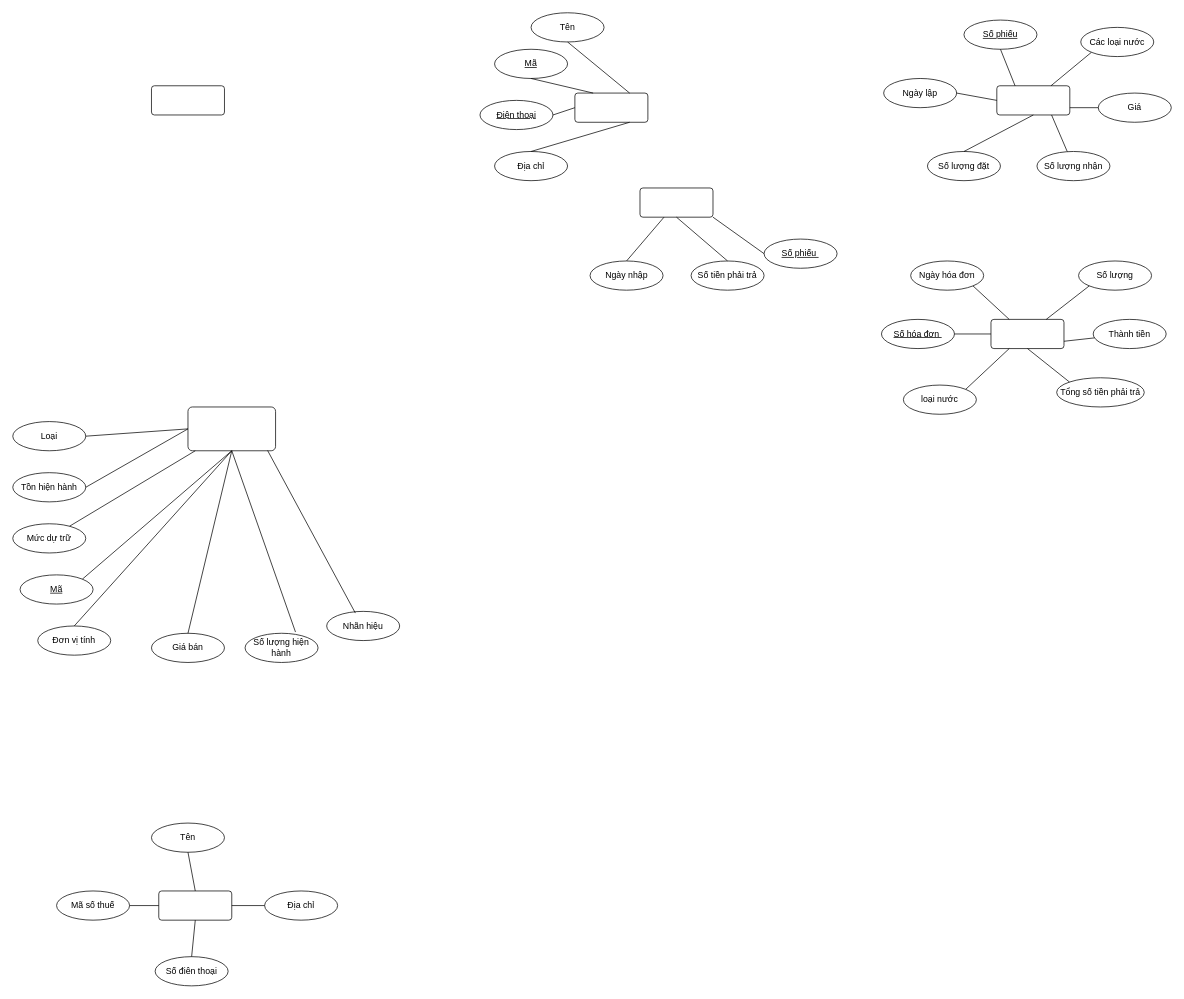
Some shapes in this 1184 by 999 pixel diagram are drawn without their labels. The shapes that lost their labels are listed below. From the top down, each one's centre as x and y in pixels, then its label:
At point 187,100: "Đại lý".
At point 611,107: "Nhà cung cấp".
At point 1033,100: "Phiếu đặt hàng".
At point 676,202: "Phiếu nhập hàng".
At point 1027,334: "Hóa đơn".
At point 231,428: "Nước giải khát".
At point 195,905: "Khách hàng".
